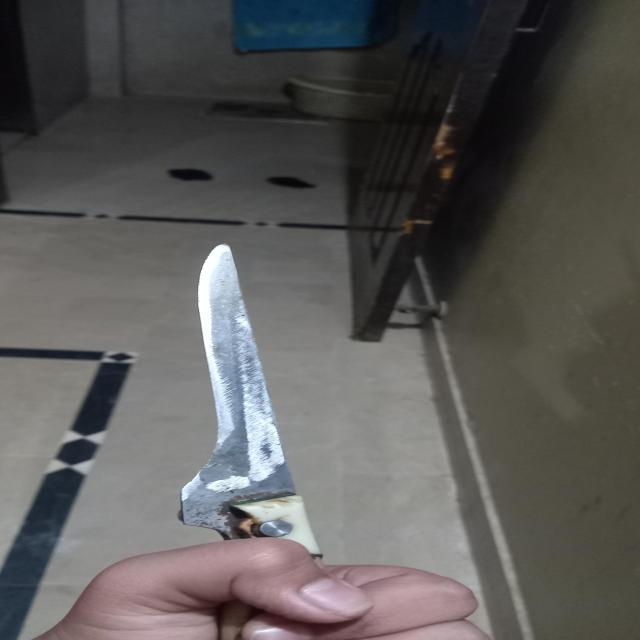Knife: (182, 244, 330, 640)
Person: (0, 538, 495, 640)
